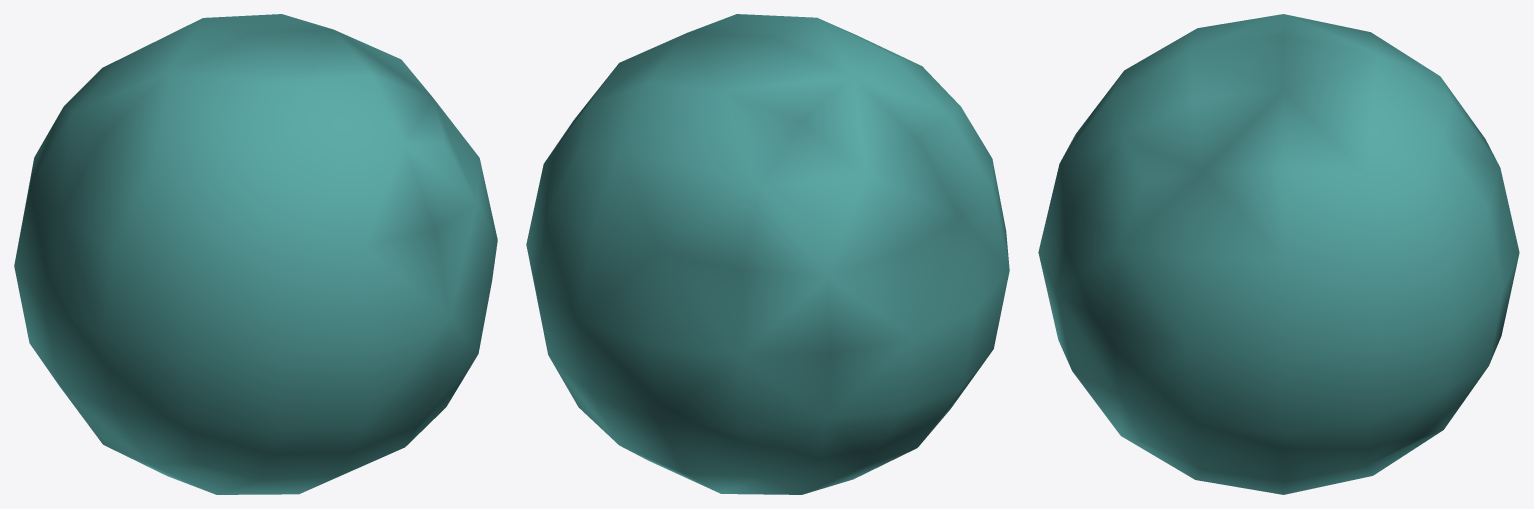
The model's file is space-planets-moons-ice-planet_v1.fbx.
The picture shows the model from 3 angles, left to right: view 1: azimuth 30°, elevation 25°; view 2: azimuth 150°, elevation 25°; view 3: azimuth 270°, elevation 25°; orthographic projection.
Parts seen in each view (by area): view 1: Ice Planet; view 2: Ice Planet; view 3: Ice Planet.
Part boxes in pixels (x1,y1,x2,y2): Ice Planet: (14,14,497,494); Ice Planet: (526,14,1009,494); Ice Planet: (1038,14,1519,494).
Bounding box in the file's own units: 0.4999 × 0.5 × 0.4999.
